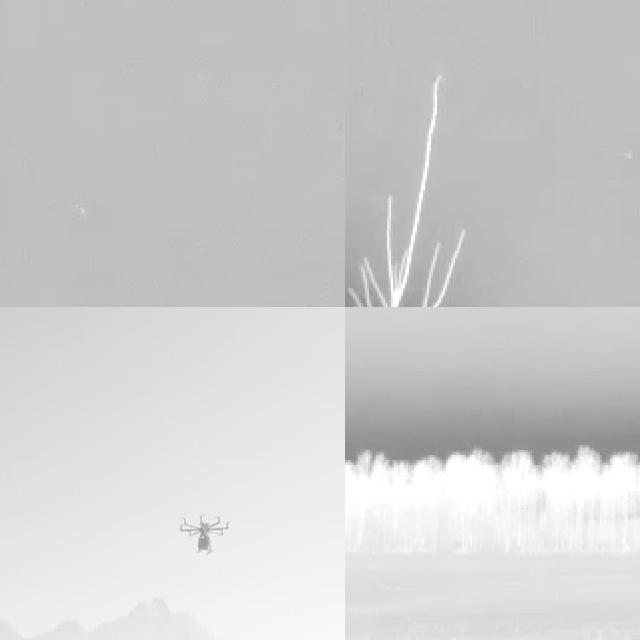0: (74, 201, 98, 229), (621, 146, 640, 174)
drone: (175, 507, 232, 558)
